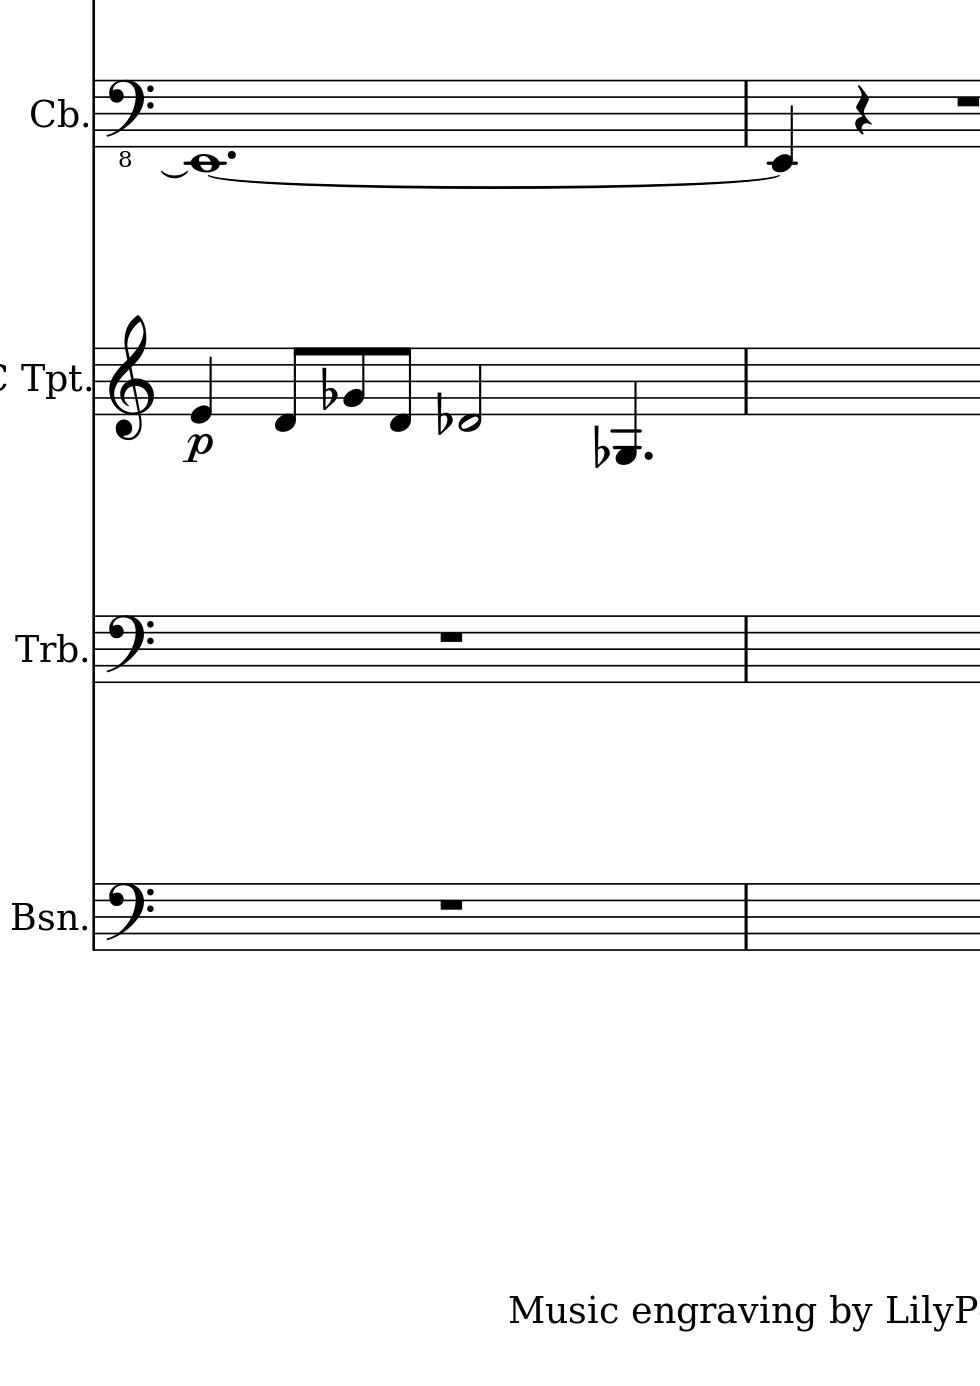1_-2: (185, 77, 223, 175)
2_-1: (455, 344, 486, 433)
4_-2: (767, 77, 798, 174)
4_-5: (611, 344, 642, 467)
4_0: (189, 345, 215, 425)
8_-1: (272, 345, 308, 434), (386, 345, 415, 434)
8_2: (342, 346, 367, 416)
Bsn: (8, 898, 76, 934)
Cb: (28, 94, 77, 134)
Fclef: (103, 613, 156, 686), (103, 882, 154, 953)
Flat: (433, 389, 453, 437), (318, 366, 338, 413), (591, 424, 609, 471)
Gclef: (107, 313, 158, 442)
Lower_Fclef: (103, 77, 155, 169)
Rests1: (435, 894, 467, 915), (435, 627, 467, 647), (951, 92, 979, 110)
Rests4: (852, 84, 872, 137)
Single_barline: (736, 615, 755, 683), (736, 883, 754, 951), (86, 80, 103, 150), (737, 348, 754, 415), (87, 347, 102, 416), (86, 884, 101, 951), (739, 81, 754, 146), (87, 616, 101, 684)
Slur: (158, 168, 189, 180)
Tpt: (19, 354, 81, 403)
Trb: (11, 627, 76, 666)
dot: (642, 448, 655, 464), (225, 148, 239, 162)
p: (180, 431, 214, 467)
